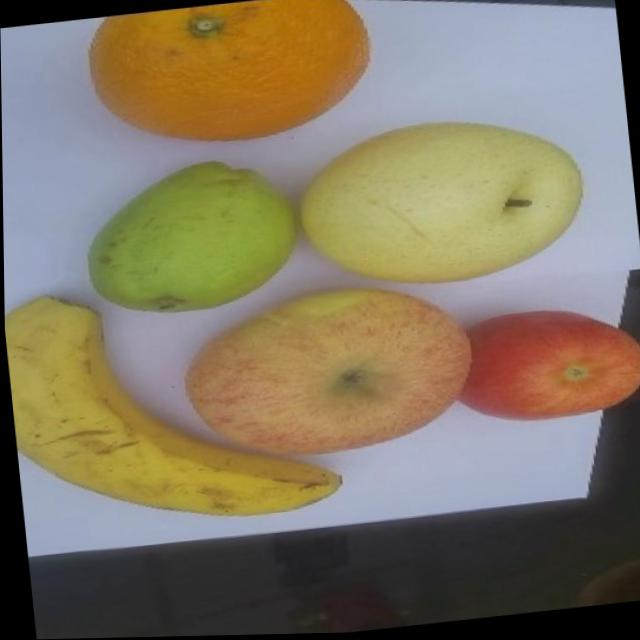Apple: (175, 275, 479, 470), (448, 300, 640, 429)
Banana: (3, 264, 344, 540)
Orange: (84, 0, 379, 156)
